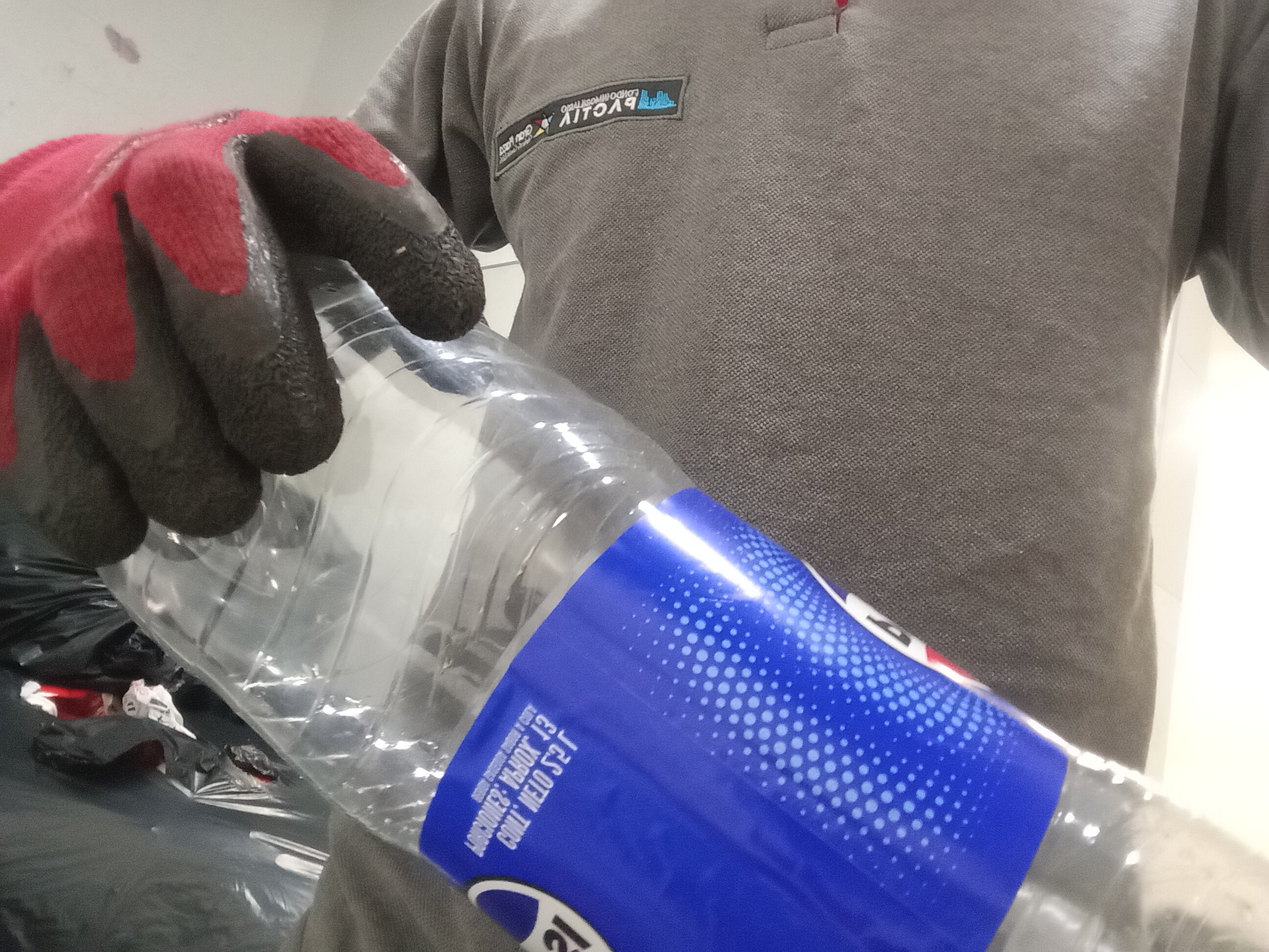Plastico: (94, 312, 1269, 952)
